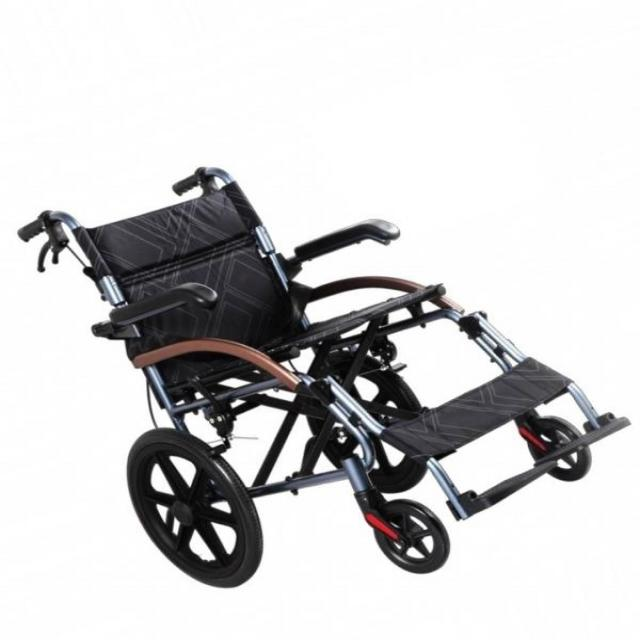wheelchair: (4, 140, 640, 600)
